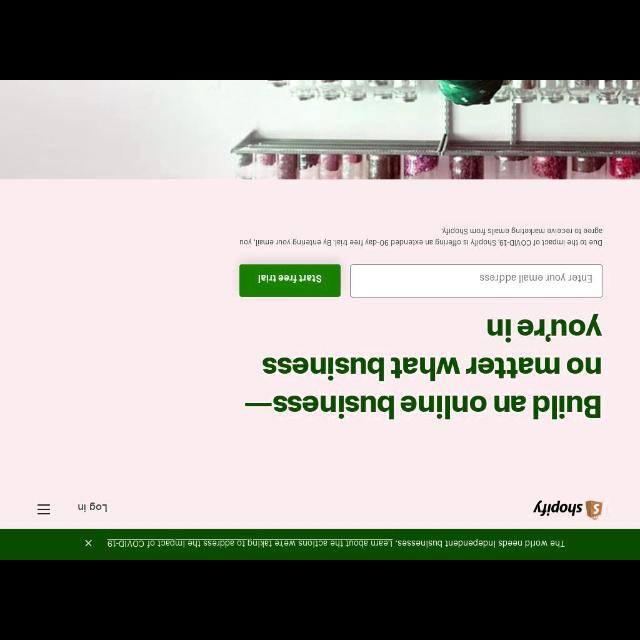icon: (38, 504, 50, 514), (84, 540, 92, 546)
image: (1, 82, 639, 180), (534, 500, 602, 520)
input: (350, 264, 602, 296)
text: (244, 313, 602, 419), (240, 227, 602, 247), (107, 540, 566, 548), (480, 273, 592, 283), (258, 275, 322, 283), (77, 502, 106, 512)
textbutton: (240, 264, 340, 296)
toolbar: (1, 492, 639, 530)
